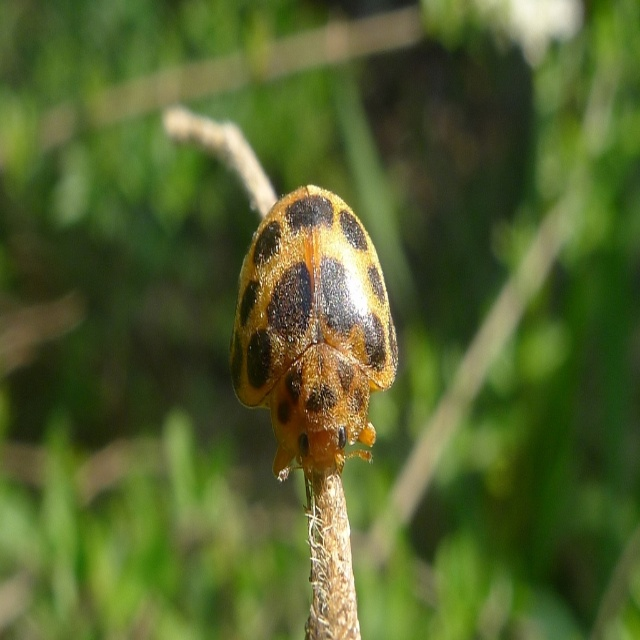Ladybug: (226, 185, 399, 487)
